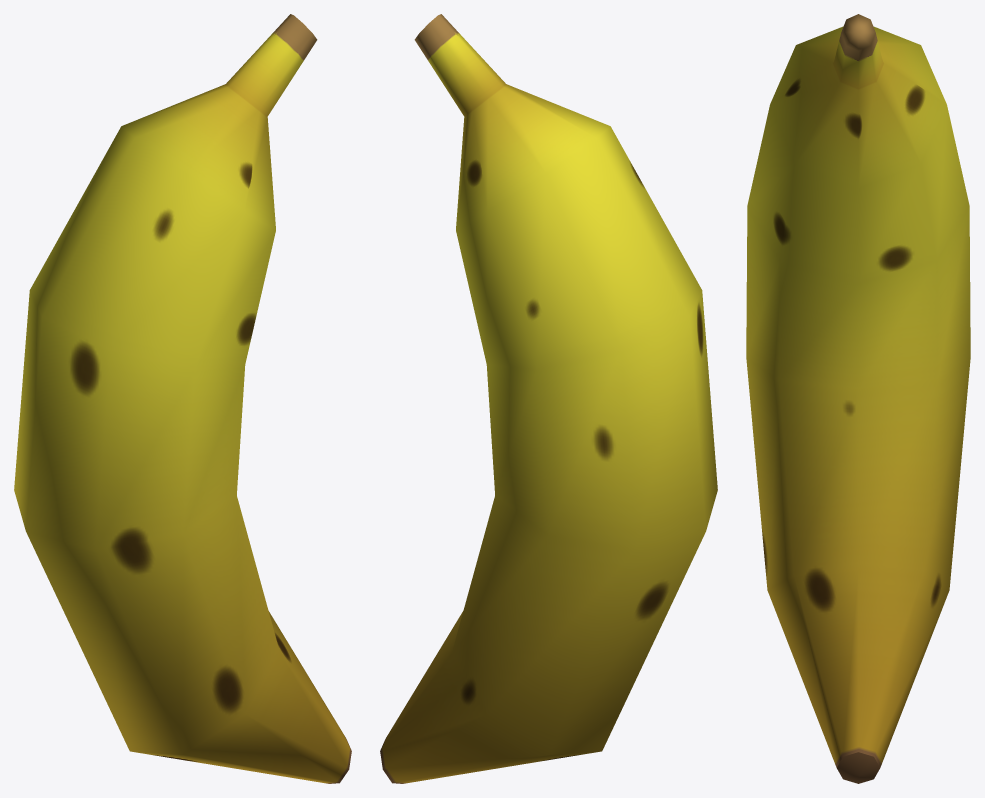
File: banana.glb
3 views of the same model, side by side, from view 1: azimuth 30°, elevation 25°; view 2: azimuth 150°, elevation 25°; view 3: azimuth 270°, elevation 25° (orthographic). The views are drawn at different scales.
Parts seen in each view (by area): view 1: banana_mesh; view 2: banana_mesh; view 3: banana_mesh.
Part boxes in pixels (<box>): banana_mesh: <box>14,14,351,783</box>; banana_mesh: <box>380,14,717,783</box>; banana_mesh: <box>746,14,970,783</box>.
Bounding box in the file's own units: 2.82 × 6.53 × 1.76.
